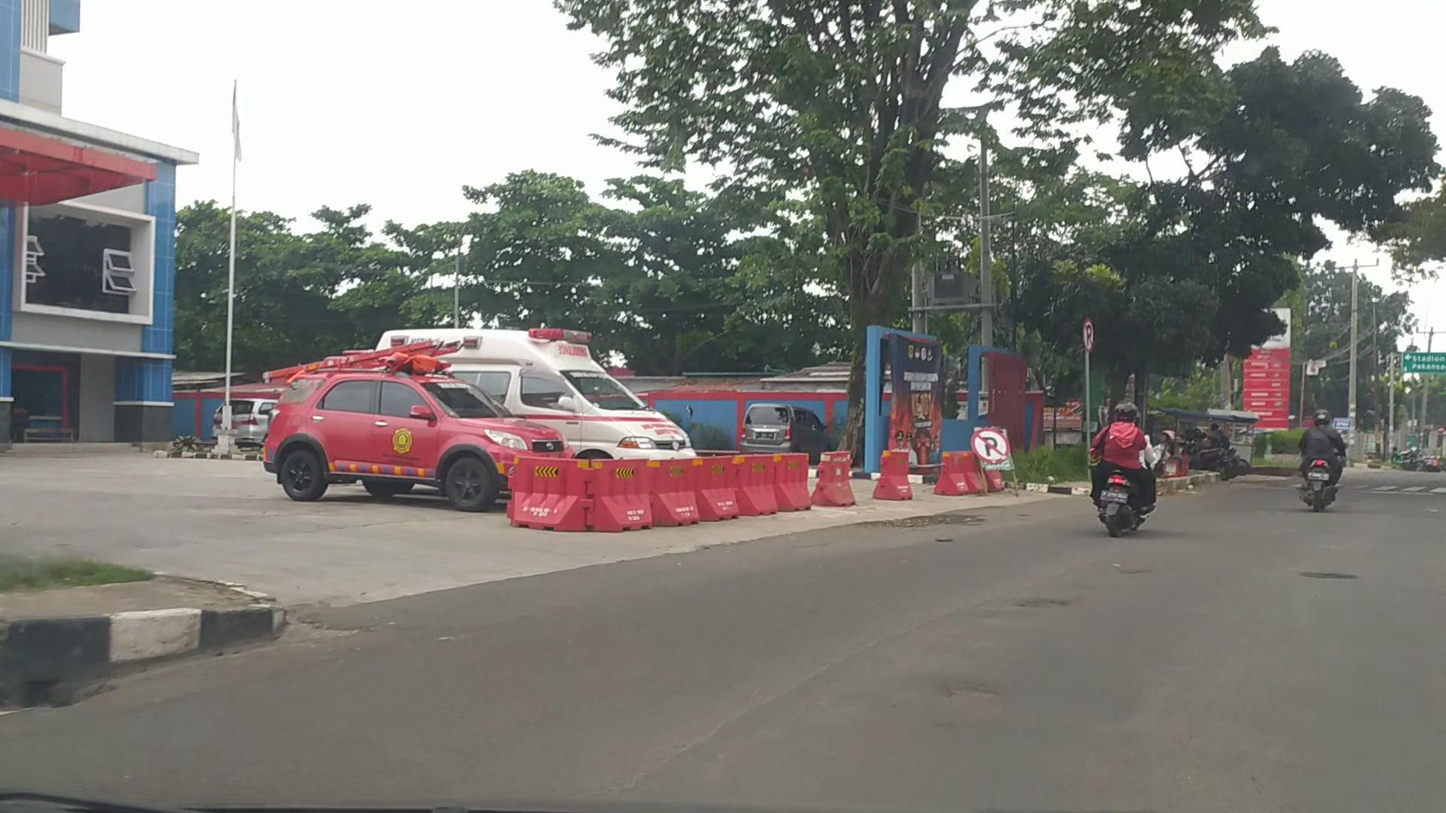pothole: (852, 512, 986, 530), (1297, 571, 1359, 583), (1013, 597, 1070, 610)
